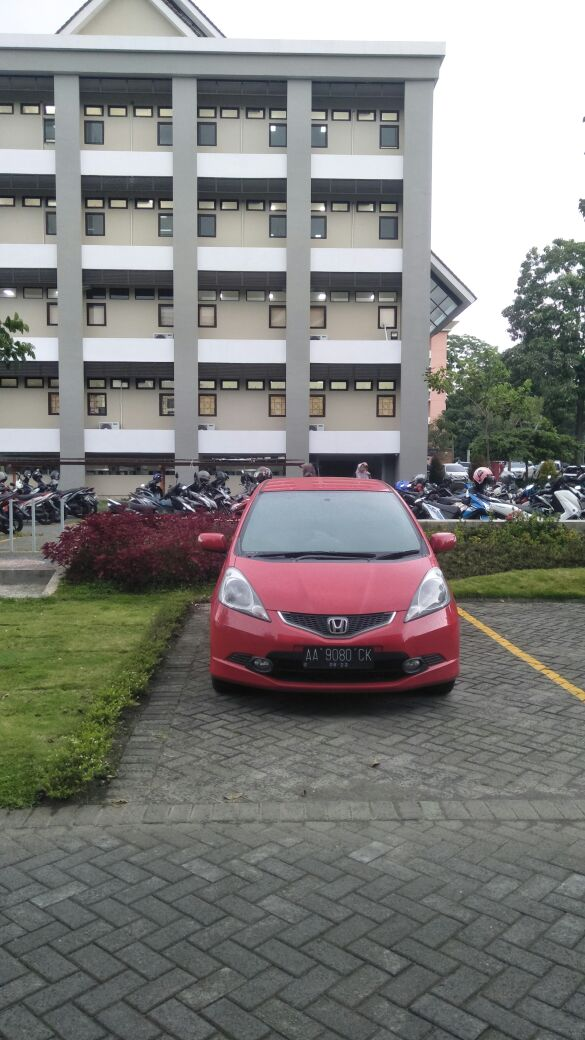plate: (301, 645, 373, 670)
